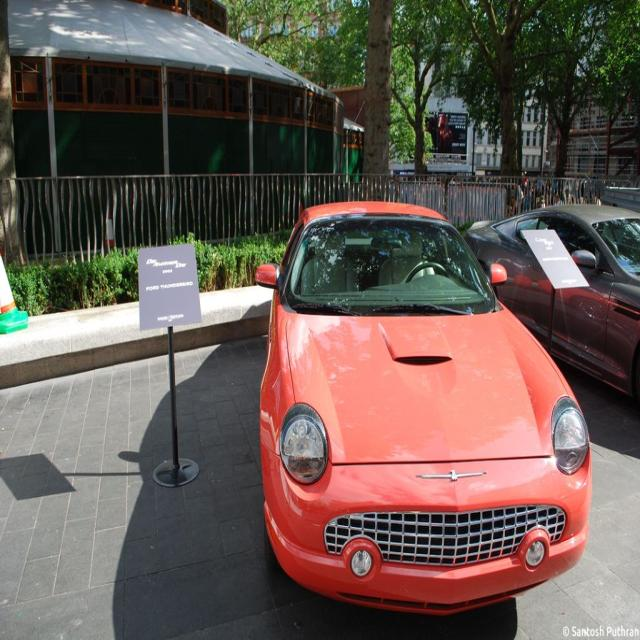car: (253, 196, 596, 602)
